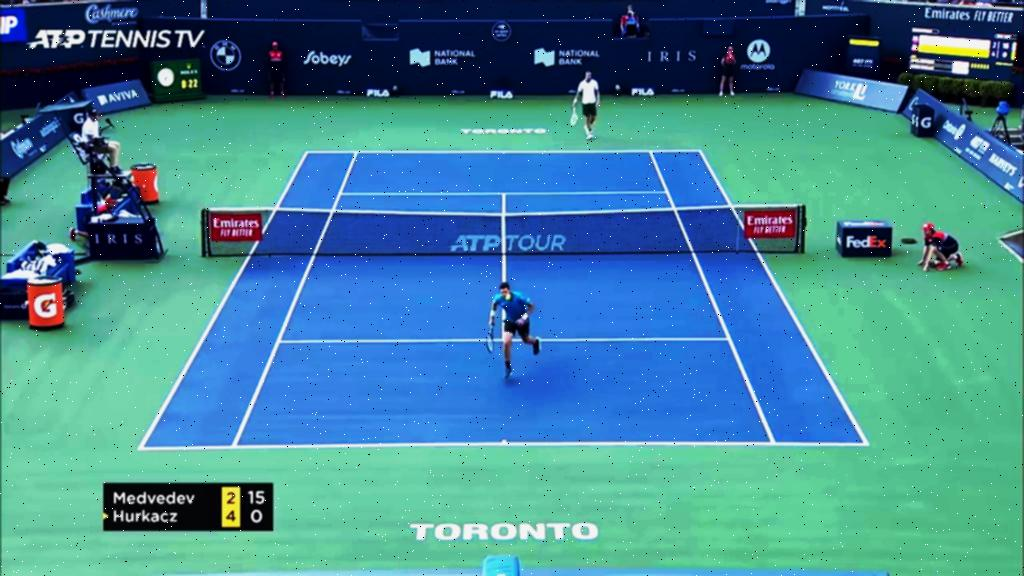tennis-court: (137, 150, 869, 450)
